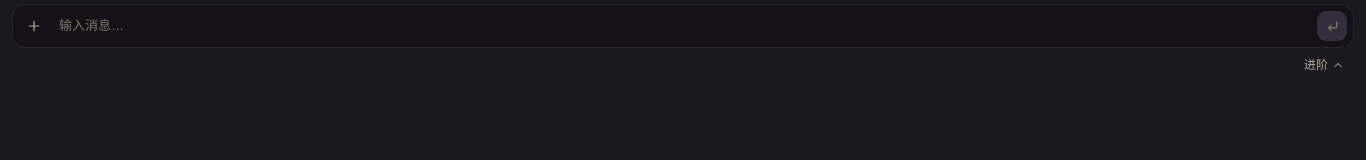
ChatInputBox · @ 补全接线 › 回车在菜单开着时只选中、**不发消息**（并转成引用芯片）
This screenshot has width=1366, height=160.
Type "@" into the text box with class "chat-input" at (683, 26), box [55,11,1311,41]
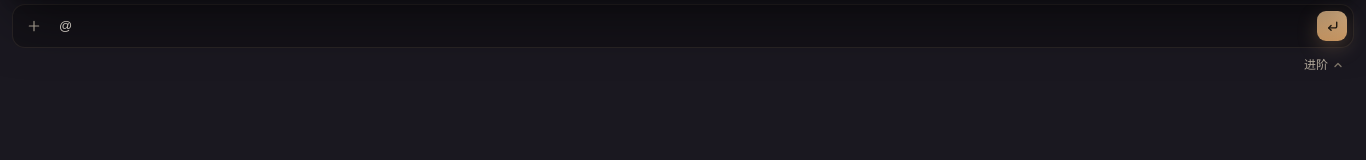
Press Enter in the text box with class "chat-input", box [55,11,1311,41]
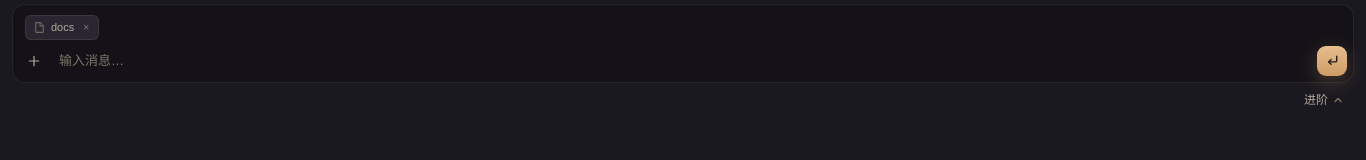
Result: the text with class "mention-chip-name" reads "docs" at [51,21,74,33]
Result: the text box with class "chat-input" is empty at [55,46,1311,76]
